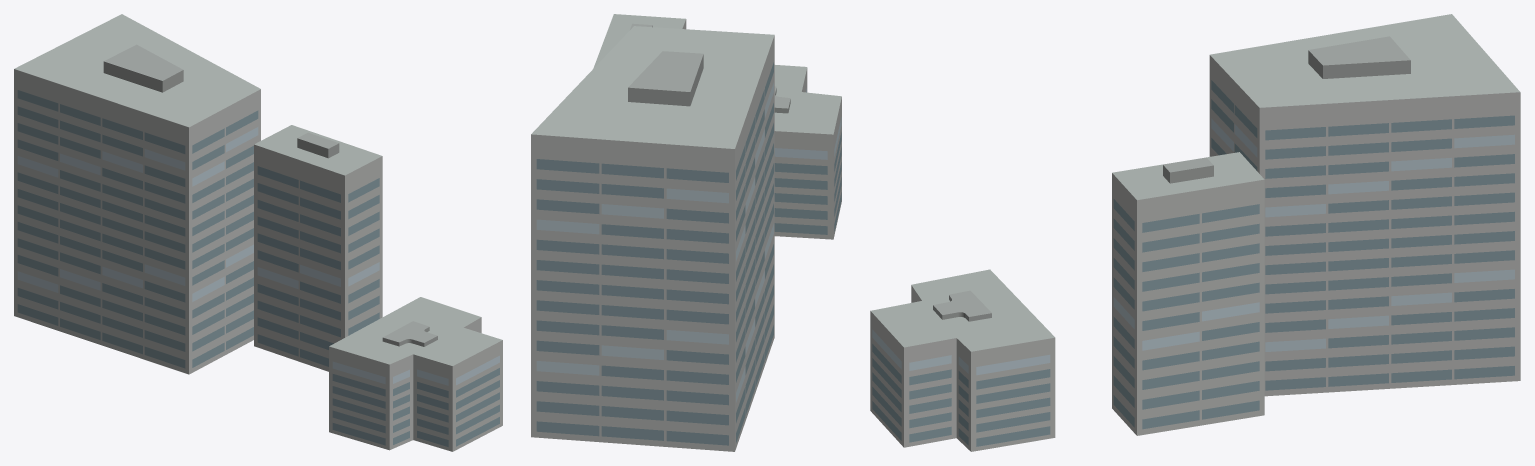
Rendered from apt-a13707003.glb.
3 renders of one model, left to right at view 1: azimuth 30°, elevation 25°; view 2: azimuth 150°, elevation 25°; view 3: azimuth 270°, elevation 25°, orthographic. The views are drawn at different scales.
Parts seen in each view (by area): view 1: apt-a13707003; view 2: apt-a13707003; view 3: apt-a13707003.
Part boxes in pixels (x1,y1,x2,y2): apt-a13707003: [14, 14, 502, 451]; apt-a13707003: [531, 14, 841, 451]; apt-a13707003: [870, 14, 1520, 451].
Size of the model in its own units: 51.85 by 49 by 95.46.
